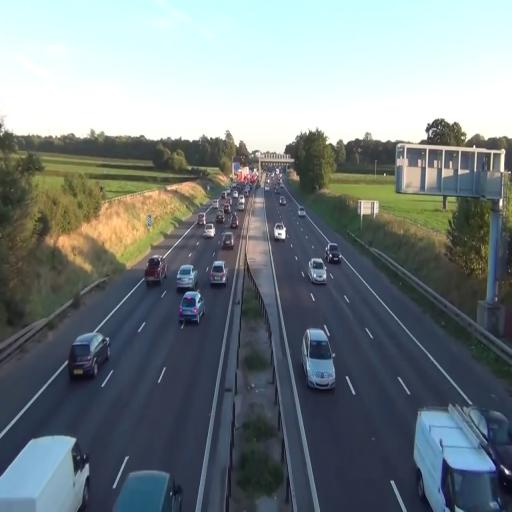vehicle: (413, 403, 505, 511), (1, 434, 91, 511), (112, 466, 181, 512), (302, 327, 336, 391), (68, 332, 110, 377), (179, 290, 205, 326), (176, 263, 198, 290), (145, 256, 164, 284), (208, 260, 228, 286), (308, 258, 326, 283), (325, 243, 341, 265), (274, 222, 287, 240), (221, 230, 234, 248)
